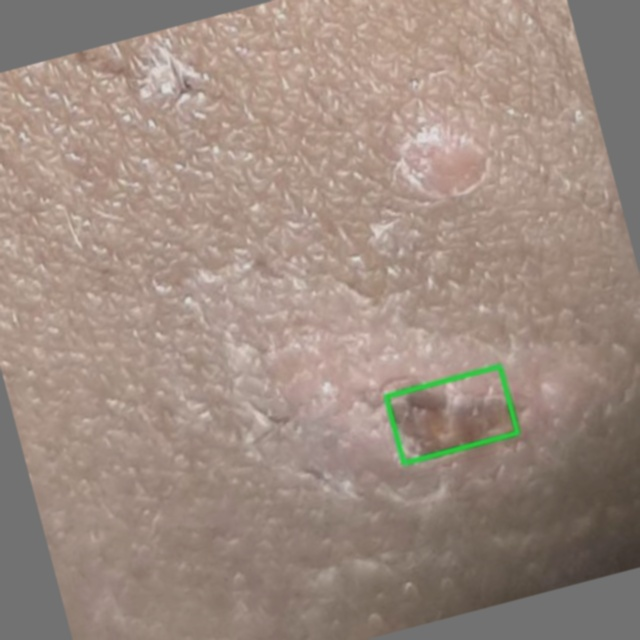Contact Dermatitis: (385, 366, 517, 463)
